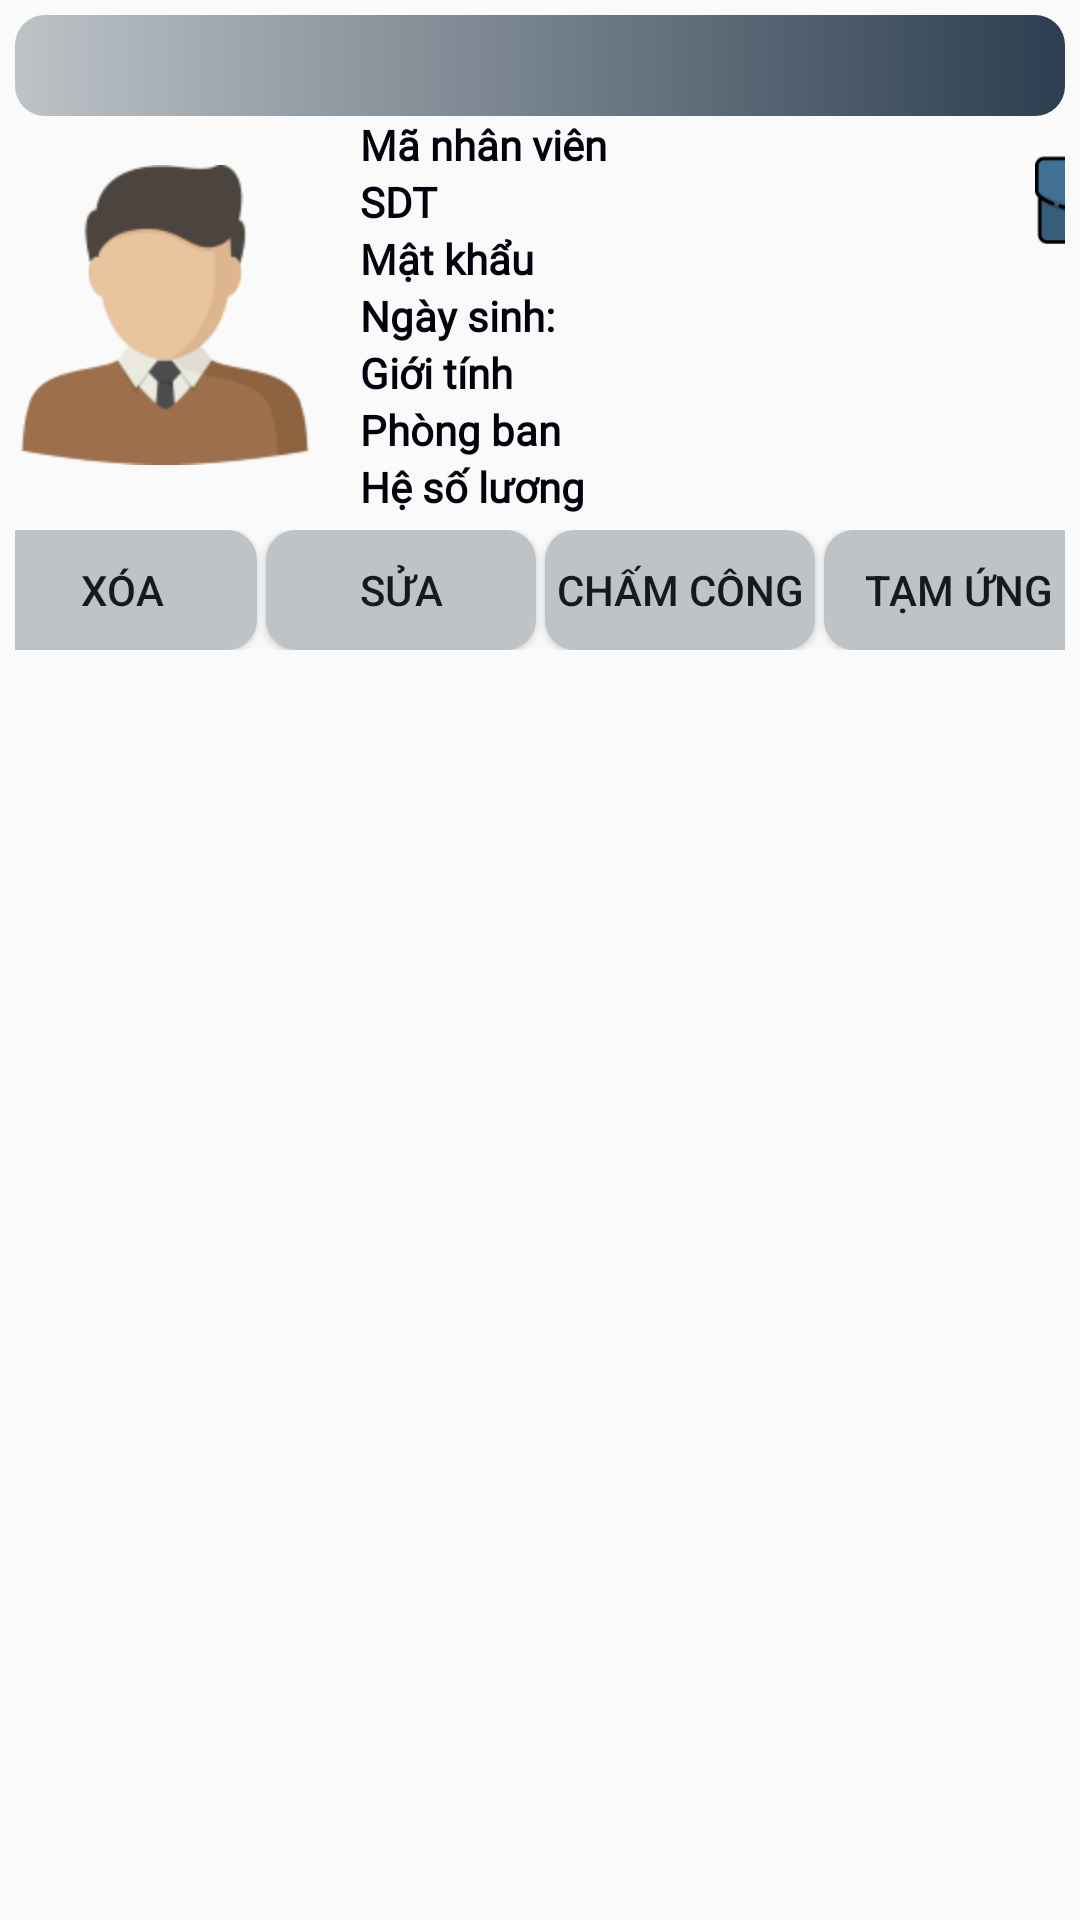

Where icons sit on this 1080px x 1920px app screen, as box(x1, y1, x2, y2):
man: box(21, 165, 309, 465)
